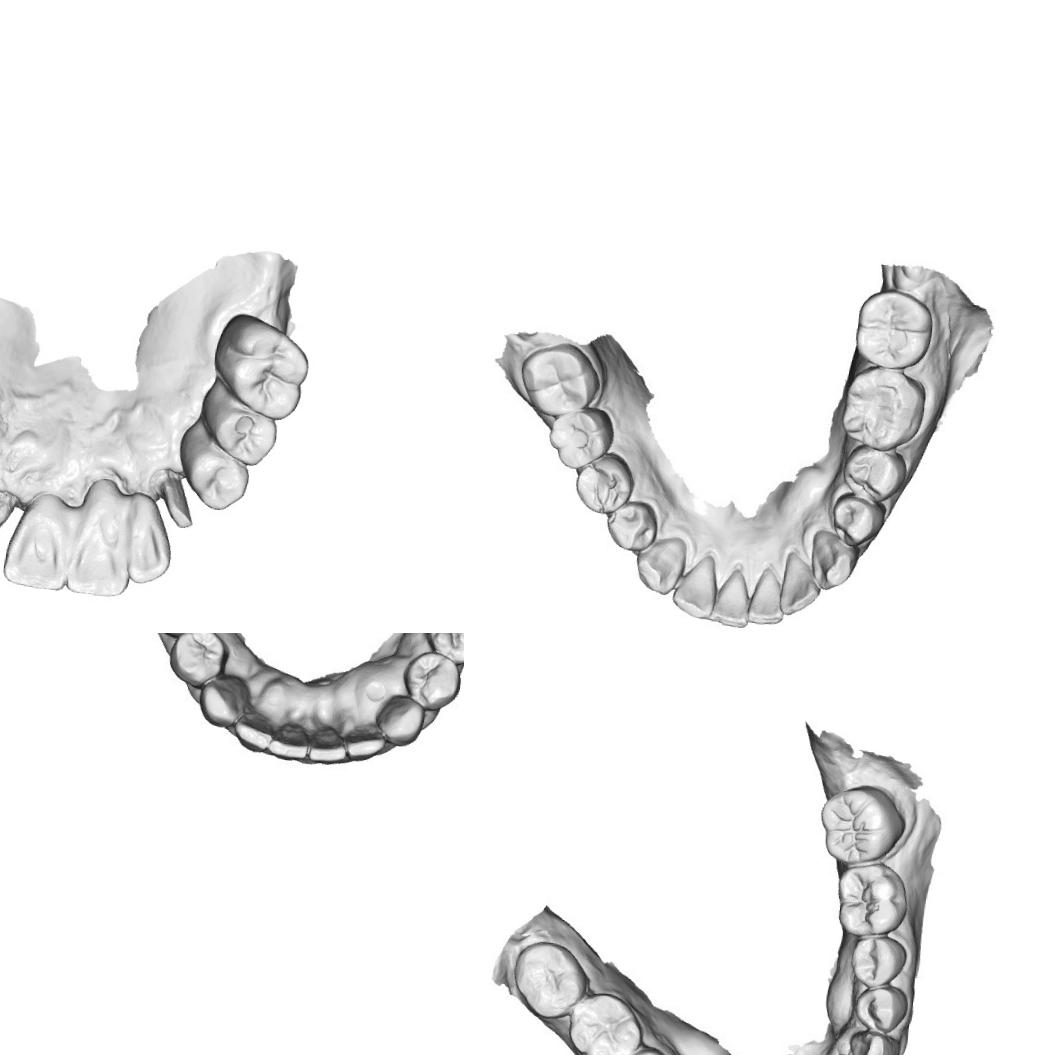canine: (806, 529, 862, 591), (632, 536, 687, 596), (201, 674, 251, 726), (380, 696, 424, 744), (846, 1025, 896, 1055)
crown: (154, 467, 201, 531), (0, 483, 16, 534)
incisor: (62, 480, 138, 606), (0, 491, 74, 593), (123, 492, 178, 587), (670, 557, 723, 620), (775, 550, 822, 618), (744, 564, 794, 627), (709, 569, 758, 630), (228, 708, 278, 755), (308, 724, 353, 769), (345, 726, 388, 764), (269, 720, 306, 761)
molar: (205, 309, 310, 419), (842, 364, 924, 454), (852, 283, 934, 371), (819, 784, 904, 864), (510, 941, 590, 1025), (515, 343, 595, 421), (832, 864, 911, 938), (544, 402, 616, 474), (565, 995, 641, 1055)
premolar: (198, 375, 285, 465), (174, 422, 260, 511), (836, 441, 910, 504), (571, 452, 632, 514), (827, 489, 888, 548), (166, 633, 232, 687), (403, 648, 459, 710), (604, 497, 660, 553), (850, 934, 902, 986), (854, 984, 904, 1032), (427, 633, 464, 663), (620, 1044, 670, 1055)
